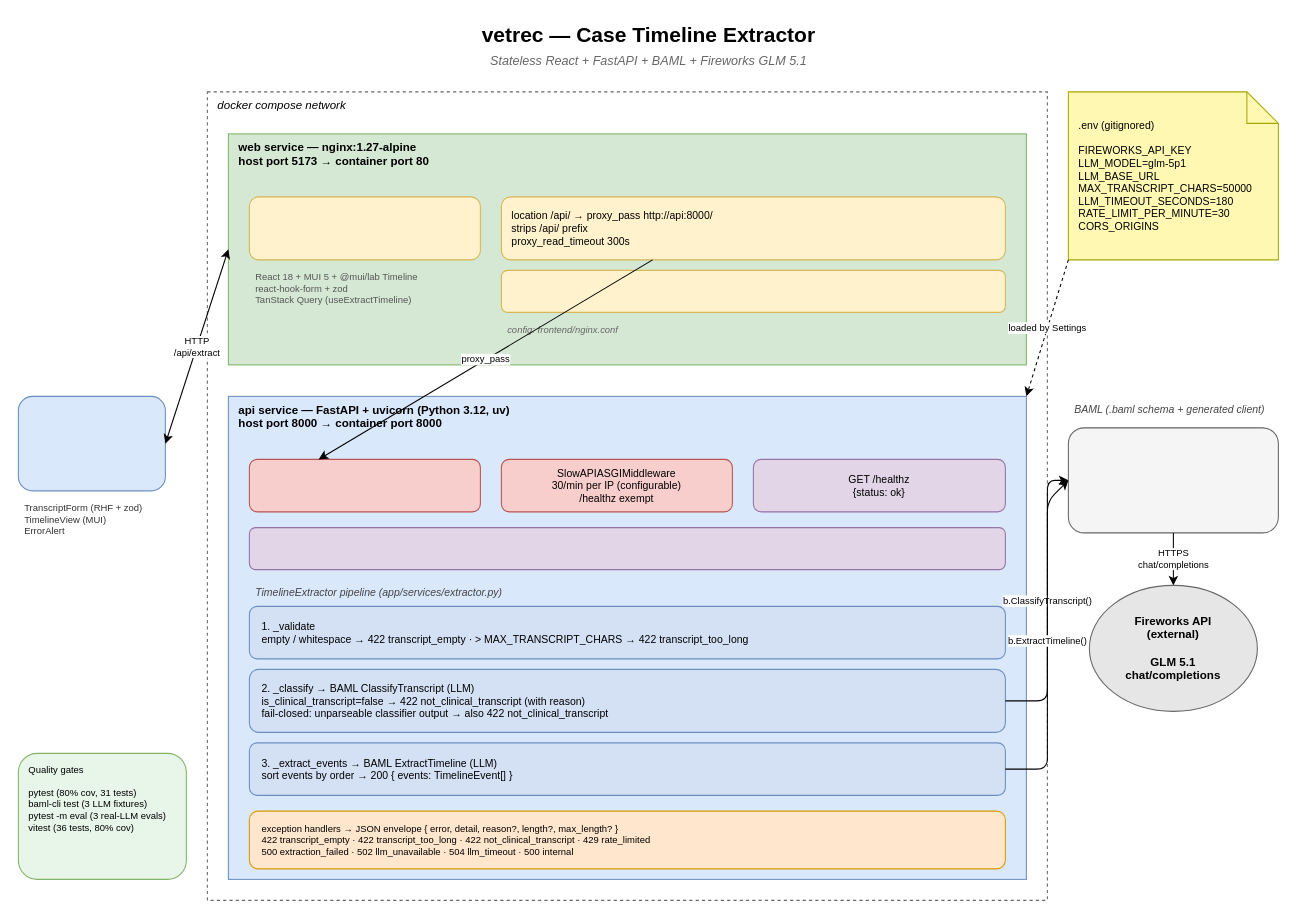
Some shapes in this 1297 by 919 pixel diagram are drawn without their labels. The shapes that lost their labels are listed below. From the top down, each one's box as (x1, y1, x2, y2) in pixels, then its label:
(248, 196, 480, 260): React SPA bundle (served by nginx)
(500, 269, 1005, 312): location / → try_files $uri $uri/ /index.html (SPA fallback)
(17, 395, 165, 491): Browser localhost:5173
(248, 458, 480, 512): CORSMiddleware allow_origins = CORS_ORIGINS
(1067, 427, 1278, 533): GLM51 client provider: openai-generic temperature: 0.0 retry: exponential, max 2
(248, 527, 1005, 570): POST /extract (router: app/api/timeline.py)
